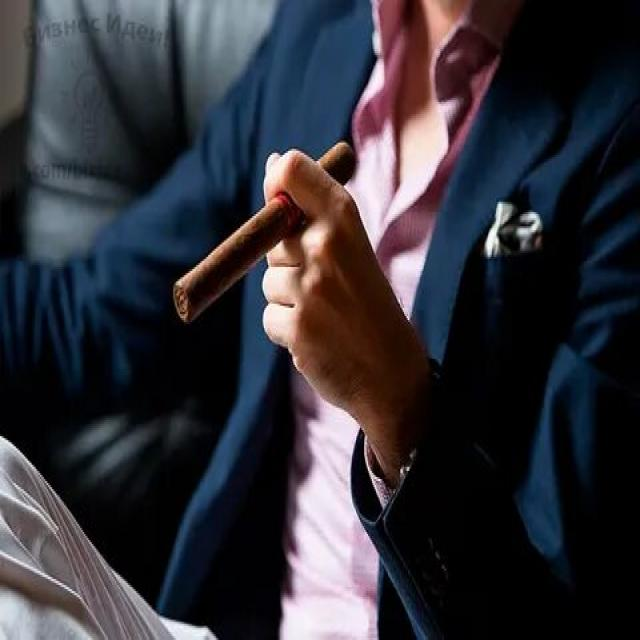cigarette: (170, 137, 362, 334)
